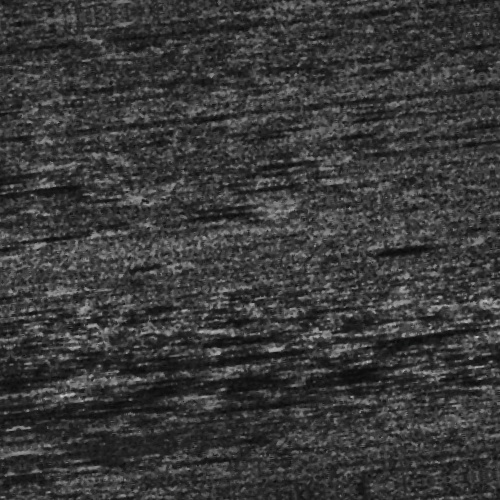object: (274, 350, 367, 359), (344, 385, 437, 394), (0, 265, 74, 272), (408, 261, 461, 268), (251, 201, 304, 206)
shadow: (177, 350, 320, 359), (270, 385, 390, 394), (362, 261, 434, 268), (191, 201, 277, 206), (0, 265, 27, 272)
